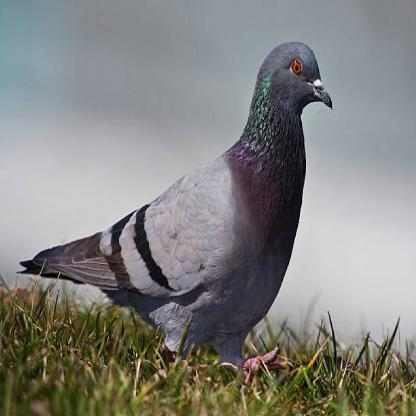Rock Pigeon: (19, 39, 334, 313)
